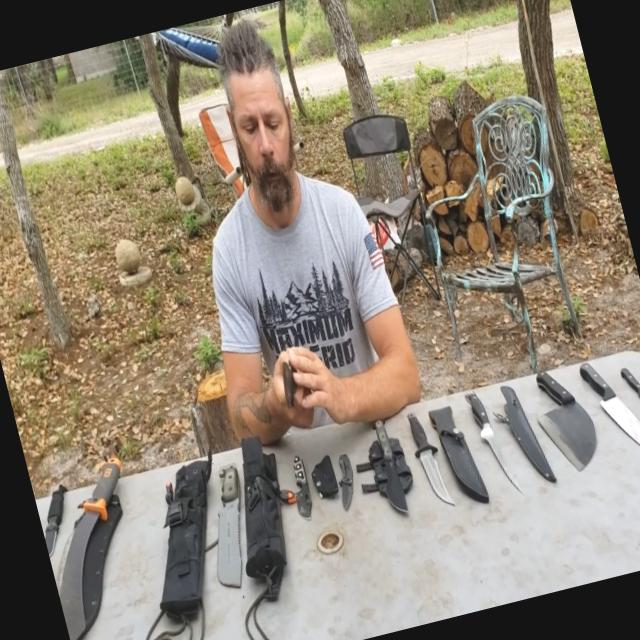knife: (28, 452, 159, 639), (522, 344, 610, 501), (454, 372, 544, 514), (190, 449, 270, 600), (566, 330, 639, 479), (355, 391, 420, 526), (399, 397, 466, 527), (29, 466, 87, 565), (280, 442, 326, 528), (324, 440, 370, 521), (609, 342, 639, 435)
